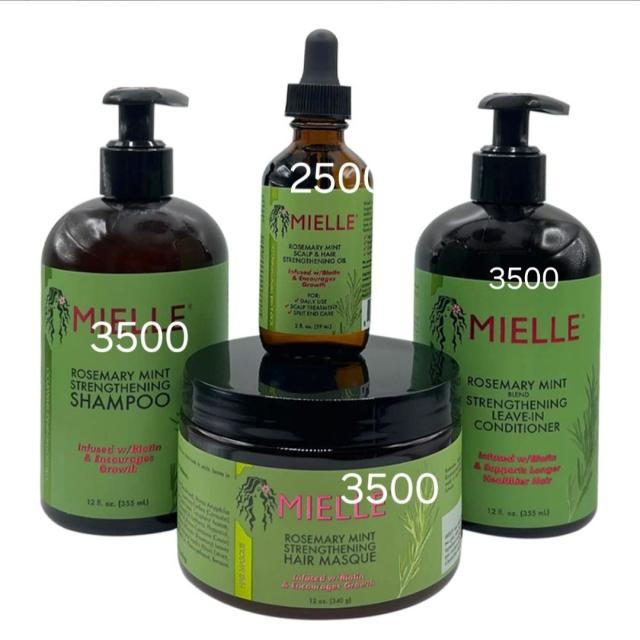food-package: (50, 266, 175, 512), (459, 307, 596, 514), (270, 187, 358, 329)
lotion-moisture: (218, 471, 441, 591)
